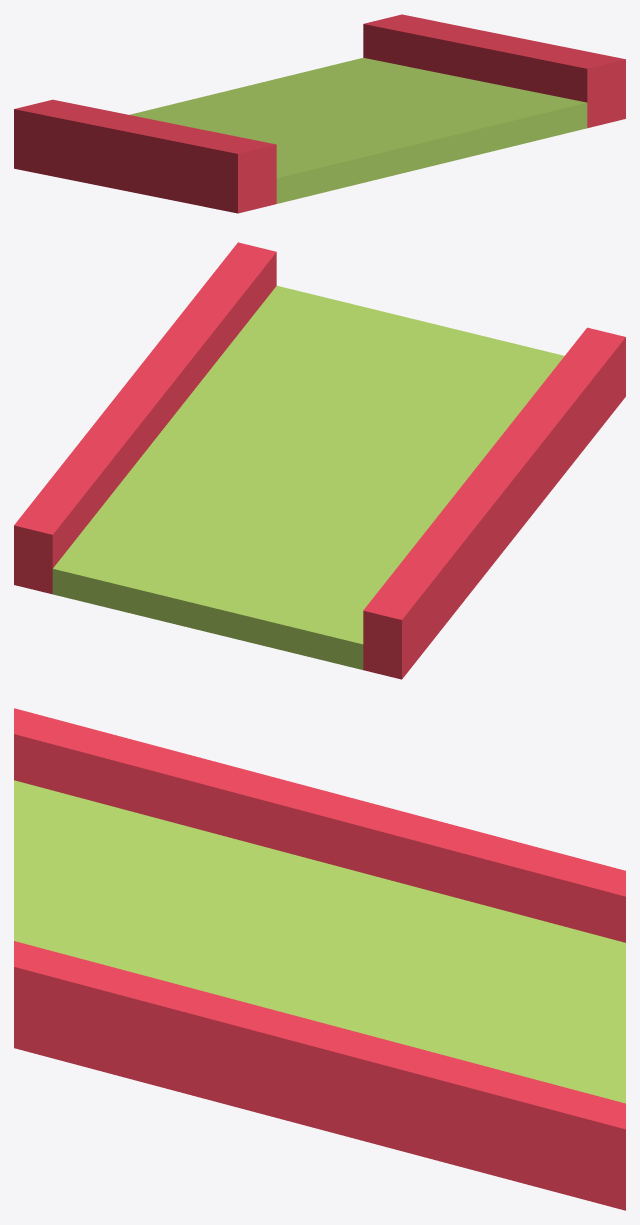
The model's file is rampB.fbx.
The picture shows the model from 3 angles, top to bottom: view 1: azimuth 30°, elevation 25°; view 2: azimuth 150°, elevation 25°; view 3: azimuth 270°, elevation 25°; orthographic projection. The views are drawn at different scales.
Parts seen in each view (by area): view 1: rampB; view 2: rampB; view 3: rampB.
Part boxes in pixels (x1,y1,x2,y2): rampB: (14, 14, 625, 213); rampB: (14, 242, 625, 679); rampB: (14, 708, 625, 1210).
Size of the model in its own units: 10 by 4.4 by 10.
